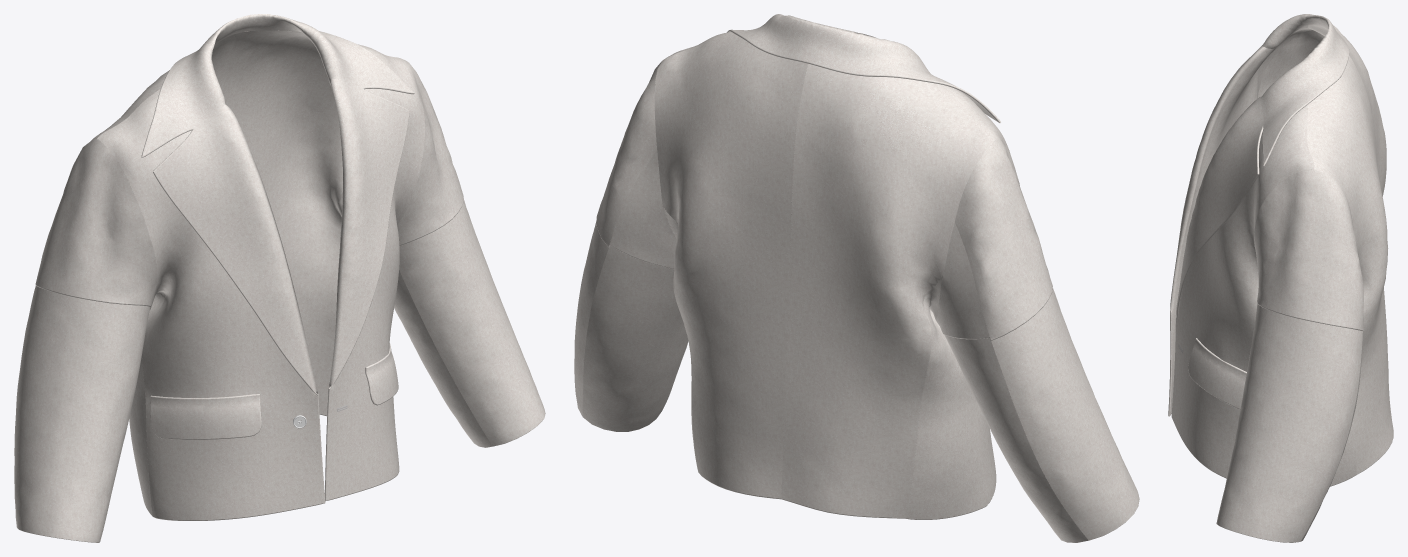
File: Look 7_1.gltf
3 renders of one model, left to right at view 1: azimuth 30°, elevation 25°; view 2: azimuth 150°, elevation 25°; view 3: azimuth 270°, elevation 25°, orthographic. The views are drawn at different scales.
Visible parts, largest first — view 1: Cloth, Pattern_6590810, Pattern_6590811; view 2: Cloth; view 3: Cloth, Pattern_6590811.
Part boxes in pixels (x1,y1,x2,y2): Cloth: (14, 14, 545, 542); Pattern_6590810: (150, 394, 261, 439); Pattern_6590811: (365, 343, 398, 405); Cloth: (574, 14, 1139, 542); Cloth: (1168, 14, 1393, 542); Pattern_6590811: (1188, 338, 1246, 409).
Size of the model in its own units: 0.8804 by 0.7342 by 0.3582.
Materials: 6 (5 with a texture image).
